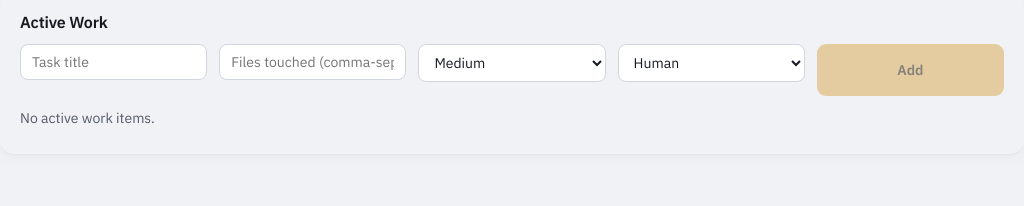
Scenario: WorkRegistryPanel › creates a work item and surfaces overlap warnings
Check: the text "No active work items." is shown, box x1=20 y1=109 x2=155 y2=127
Type "New task" into the field labelled "Task title" at {"x": 114, "y": 62}, box x1=20 y1=44 x2=207 y2=80
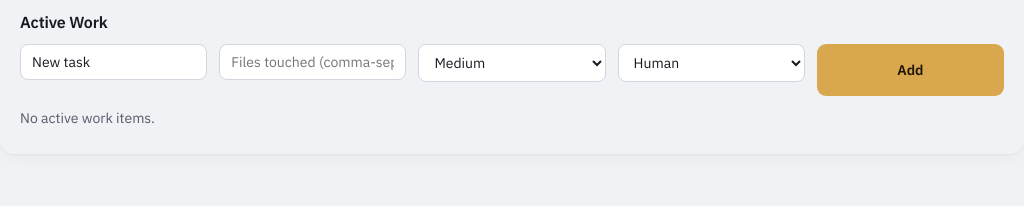
Submit the form named "Task title", box x1=20 y1=44 x2=1004 y2=96
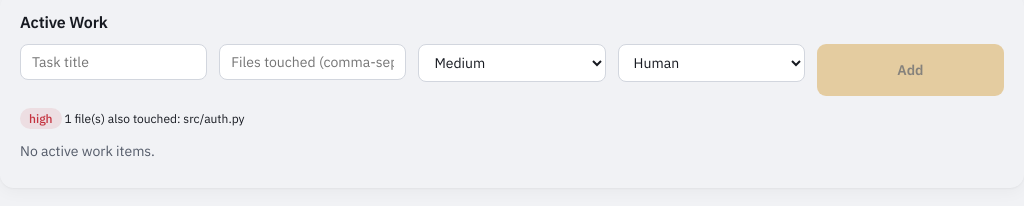
Check: the text "high 1 file(s) also touched: src/auth.py" is shown, box x1=20 y1=108 x2=244 y2=129
Check: the text "high" is shown, box x1=20 y1=108 x2=62 y2=129
